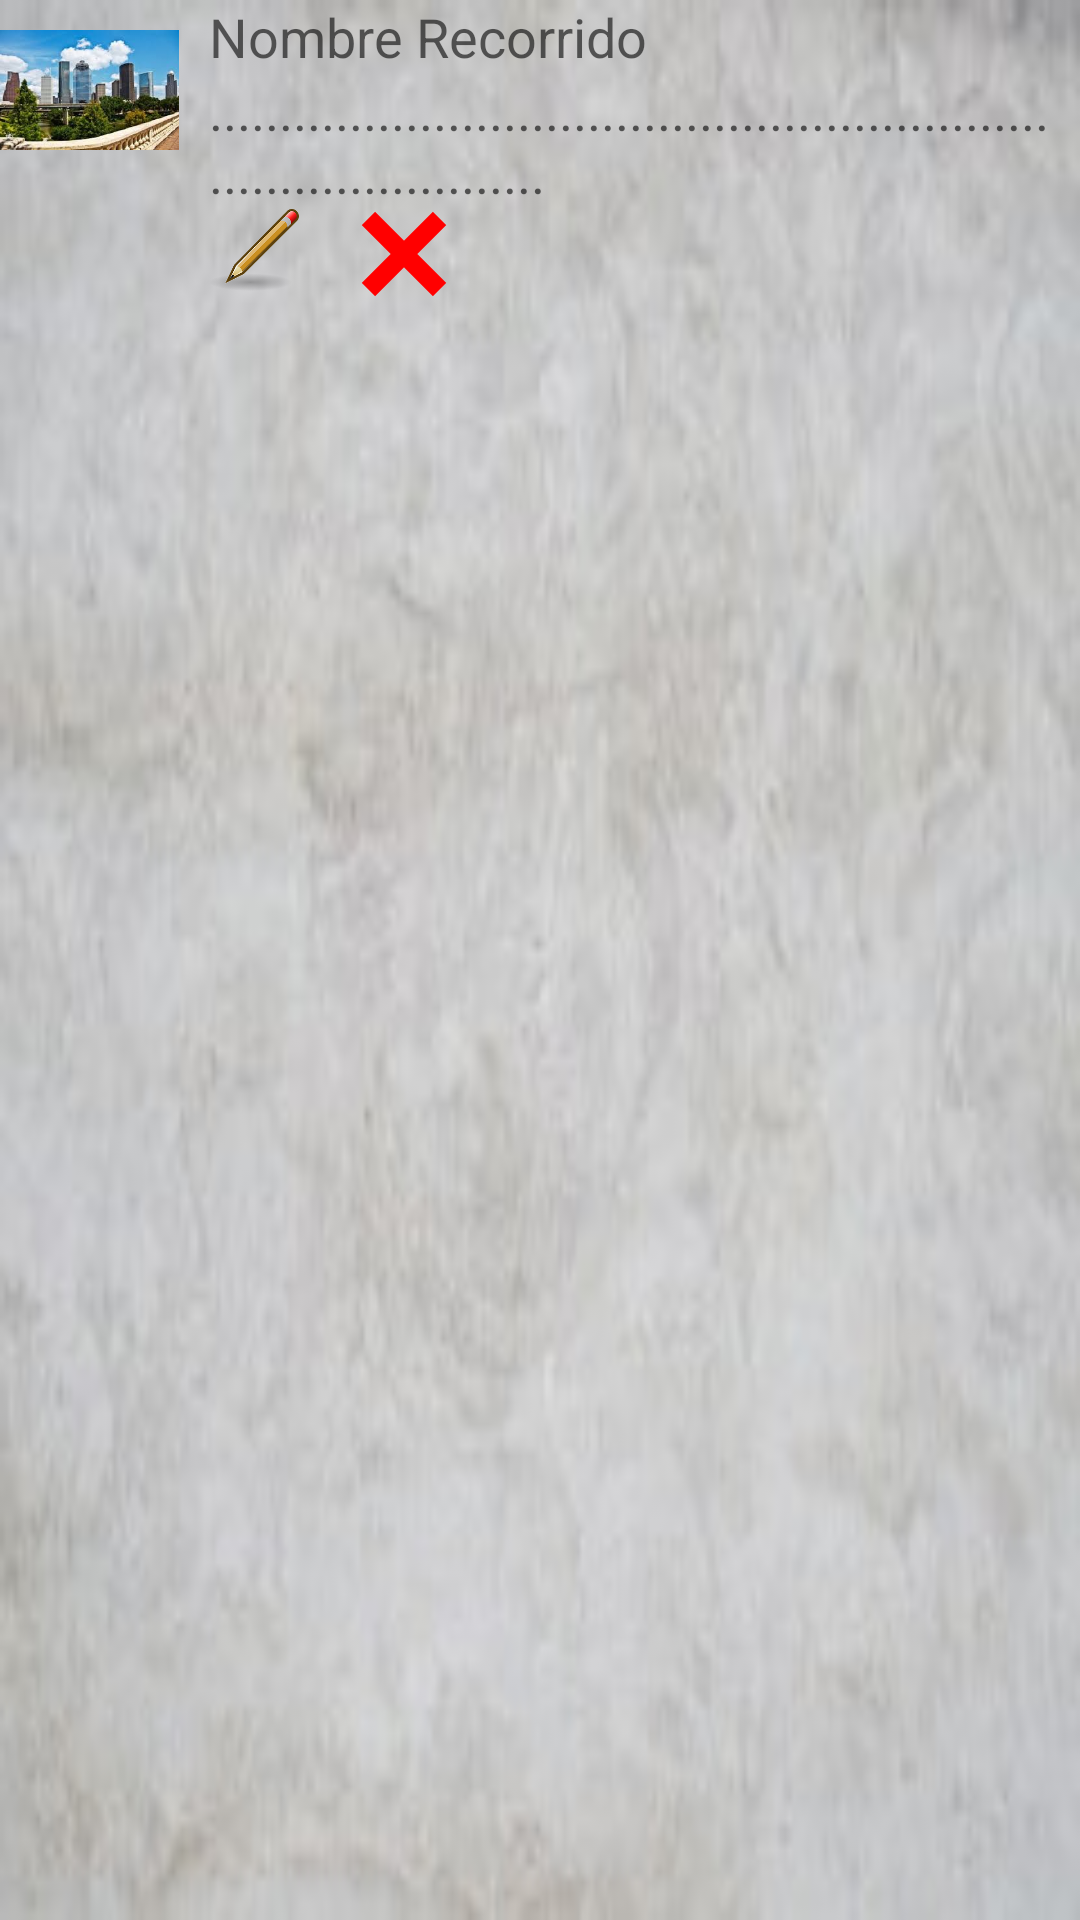

Where icons sit on this 1080px×1920px app screen, as (left=x1, top=y1, right=x2, bottom=y2):
edit: (left=224, top=209, right=299, bottom=287)
error: (left=362, top=212, right=446, bottom=296)
